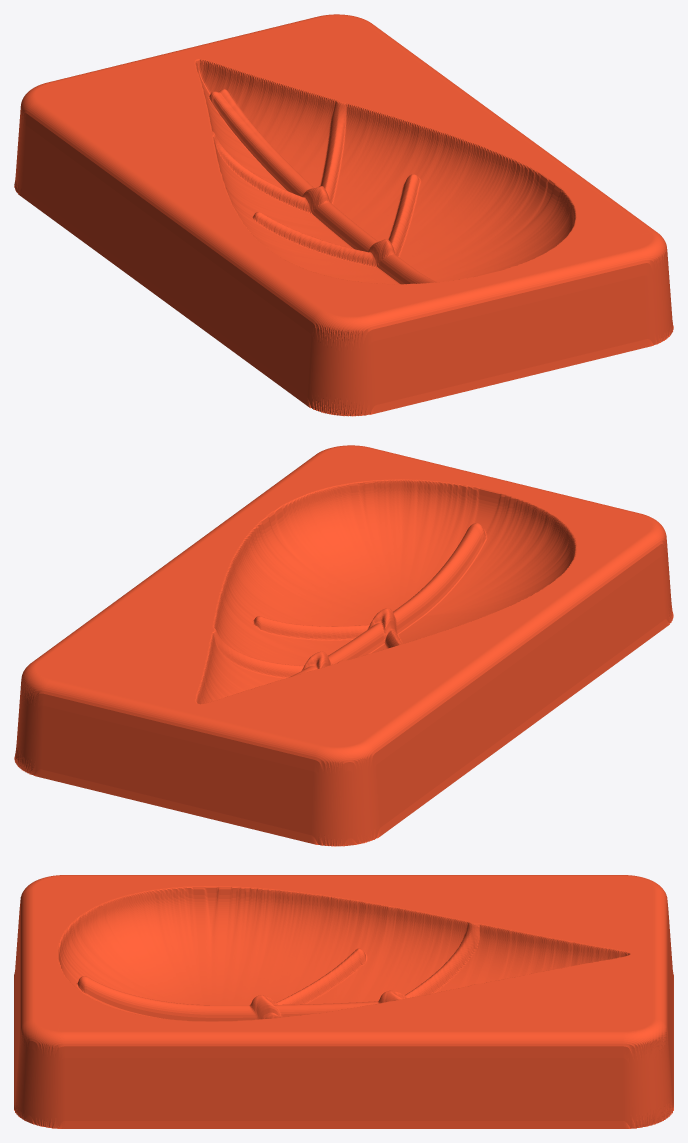
The model's file is mold.glb.
3 views of the same model, one above another, from view 1: azimuth 30°, elevation 25°; view 2: azimuth 150°, elevation 25°; view 3: azimuth 270°, elevation 25° (orthographic). The views are drawn at different scales.
Visible parts, largest first — view 1: geometry_0; view 2: geometry_0; view 3: geometry_0.
Part boxes in pixels (bbox=[...]): geometry_0: bbox=[14, 14, 673, 416]; geometry_0: bbox=[14, 445, 673, 846]; geometry_0: bbox=[14, 875, 673, 1128].
Size of the model in its own units: 0.0728 by 0.0175 by 0.1178.
